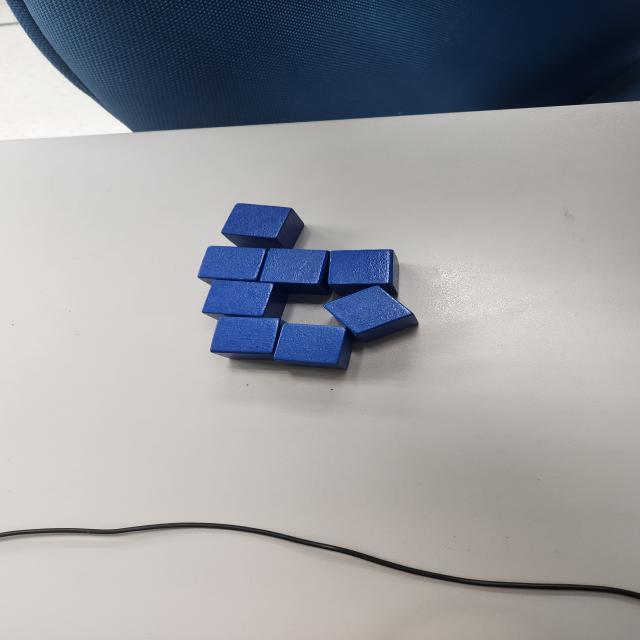blue: (323, 285, 420, 343), (220, 203, 304, 251), (272, 322, 355, 370), (327, 249, 401, 297), (256, 249, 331, 295), (202, 280, 288, 320), (210, 316, 286, 360), (196, 245, 268, 282)
